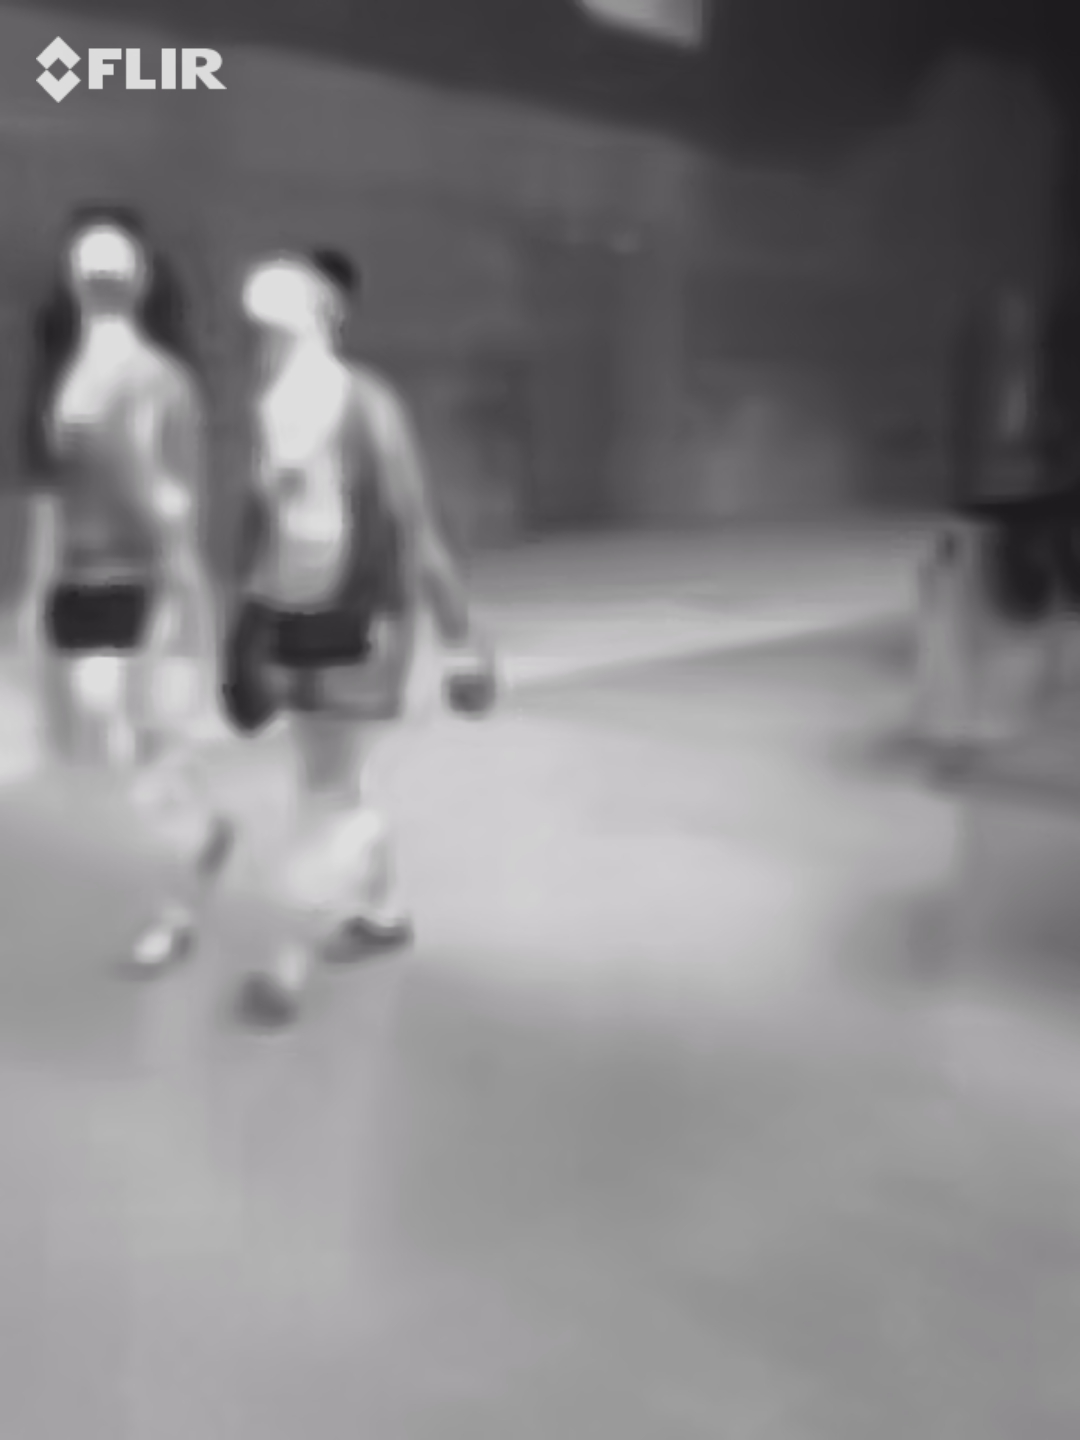head: (56, 209, 153, 330)
